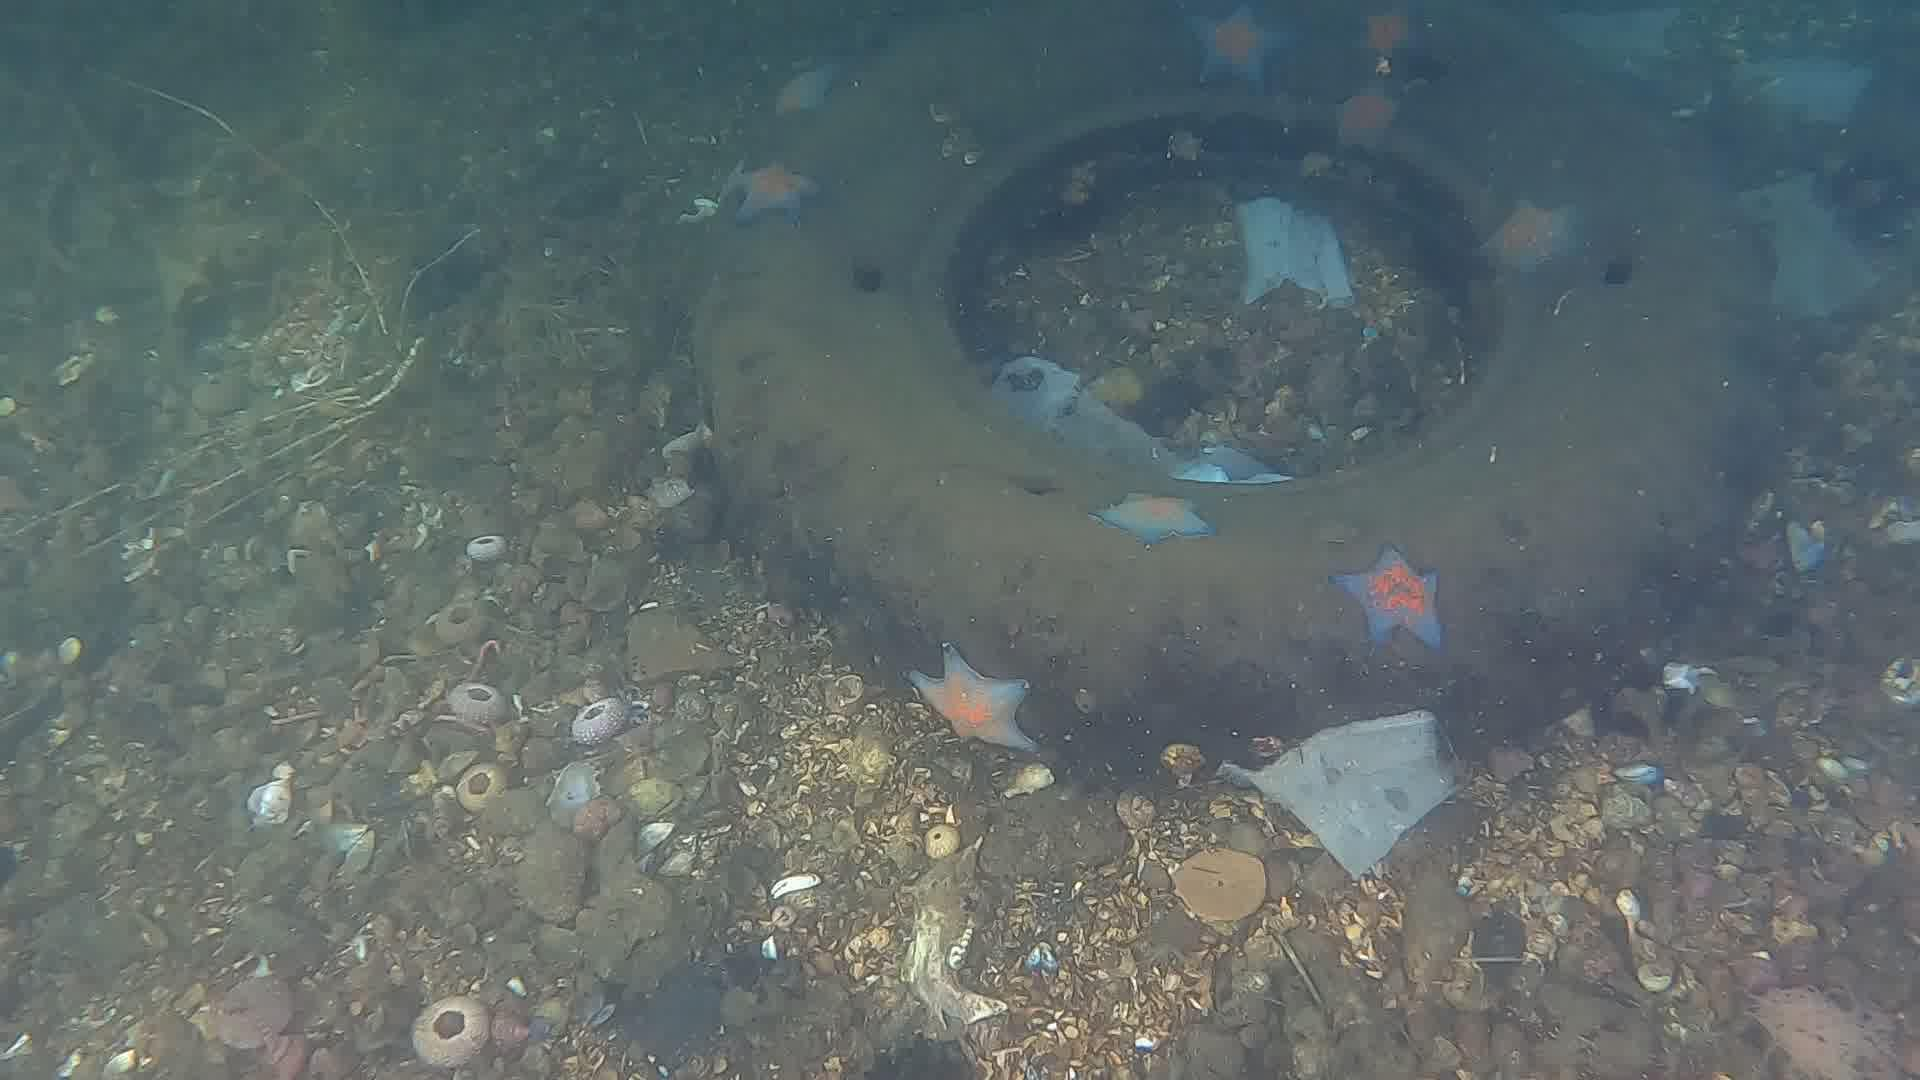tire: (670, 9, 1780, 771)
